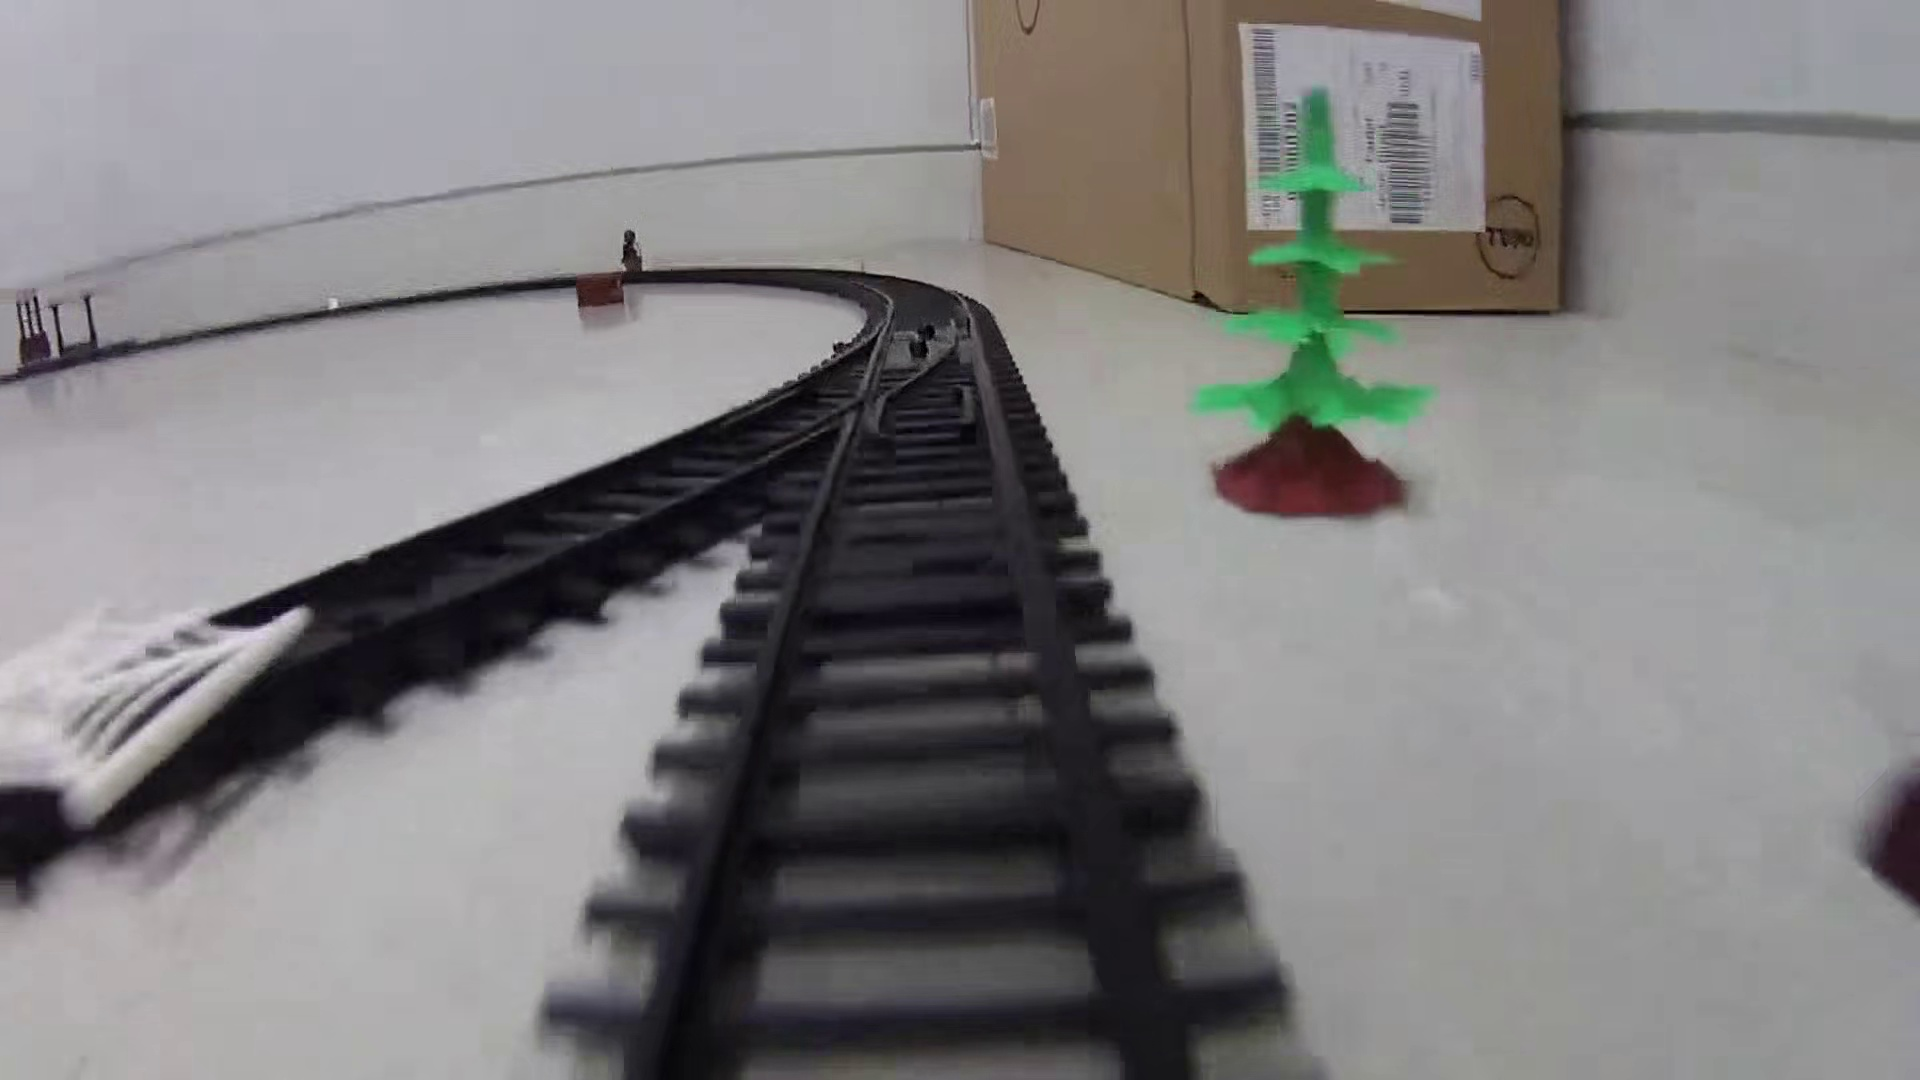box: (573, 271, 627, 311)
people: (617, 228, 644, 277)
tree: (1190, 83, 1421, 522)
web: (1, 584, 316, 826)
